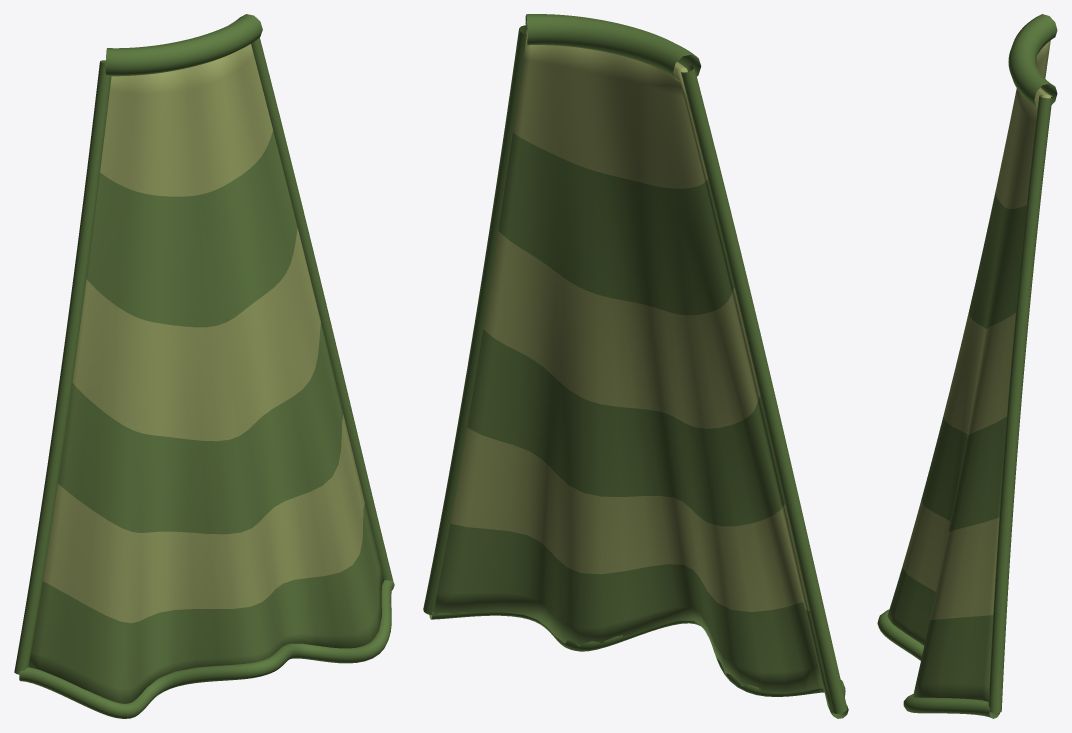
The model's file is Snail_Cape.glb.
3 renders of one model, left to right at view 1: azimuth 30°, elevation 25°; view 2: azimuth 150°, elevation 25°; view 3: azimuth 270°, elevation 25°, orthographic. The views are drawn at different scales.
Visible parts, largest first — view 1: cape.horizontal_shell_stripes, cape.bound_edge, cape.hem_binding, cape.bound_edge.001, cape.collar; view 2: cape.horizontal_shell_stripes, cape.bound_edge, cape.bound_edge.001, cape.collar, cape.hem_binding; view 3: cape.horizontal_shell_stripes, cape.bound_edge.001, cape.collar, cape.hem_binding.
Part boxes in pixels (left/top/right/bottom): cape.horizontal_shell_stripes: left=28, top=44, right=383, bottom=703; cape.bound_edge: left=14, top=60, right=111, bottom=674; cape.hem_binding: left=19, top=580, right=394, bottom=718; cape.bound_edge.001: left=251, top=37, right=392, bottom=580; cape.collar: left=105, top=14, right=262, bottom=76; cape.horizontal_shell_stripes: left=433, top=30, right=833, bottom=712; cape.bound_edge: left=681, top=65, right=847, bottom=713; cape.bound_edge.001: left=423, top=25, right=527, bottom=614; cape.collar: left=525, top=14, right=701, bottom=82; cape.hem_binding: left=429, top=611, right=848, bottom=718; cape.horizontal_shell_stripes: left=887, top=40, right=1052, bottom=701; cape.bound_edge.001: left=988, top=95, right=1052, bottom=712; cape.collar: left=1008, top=14, right=1057, bottom=107; cape.hem_binding: left=877, top=609, right=999, bottom=718.
Size of the model in its own units: 0.7721 by 1.19 by 0.3215.
